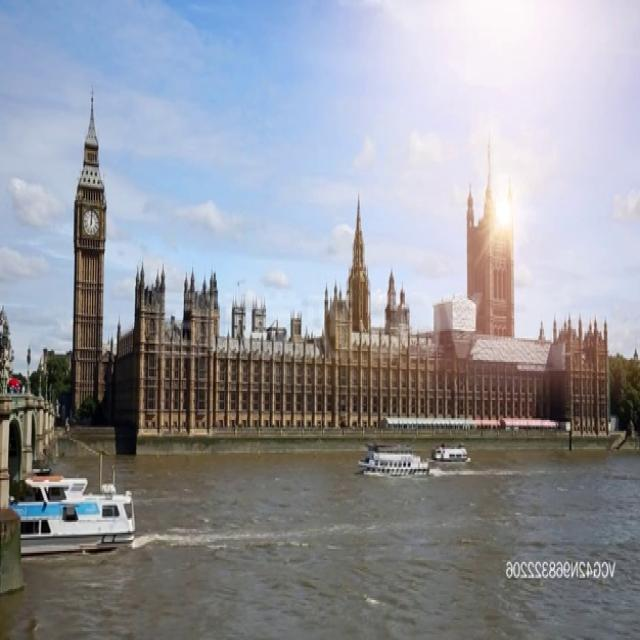passenger ship: (3, 462, 138, 553), (364, 440, 431, 476), (433, 437, 473, 466)
